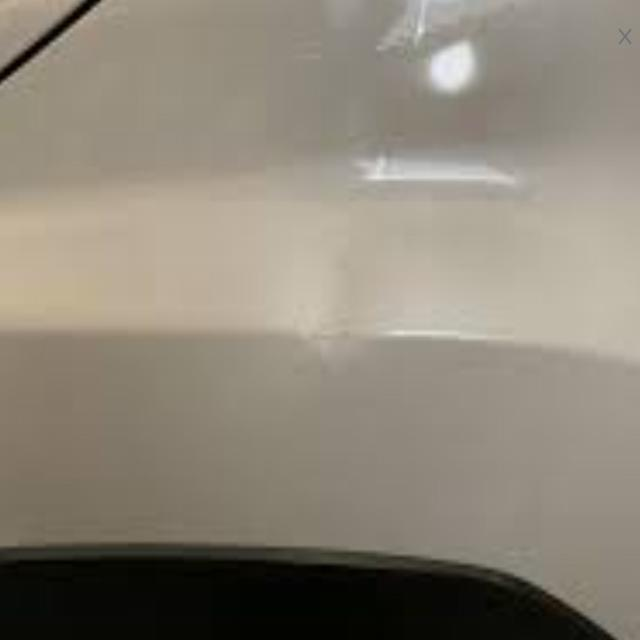dents: (298, 226, 391, 396)
